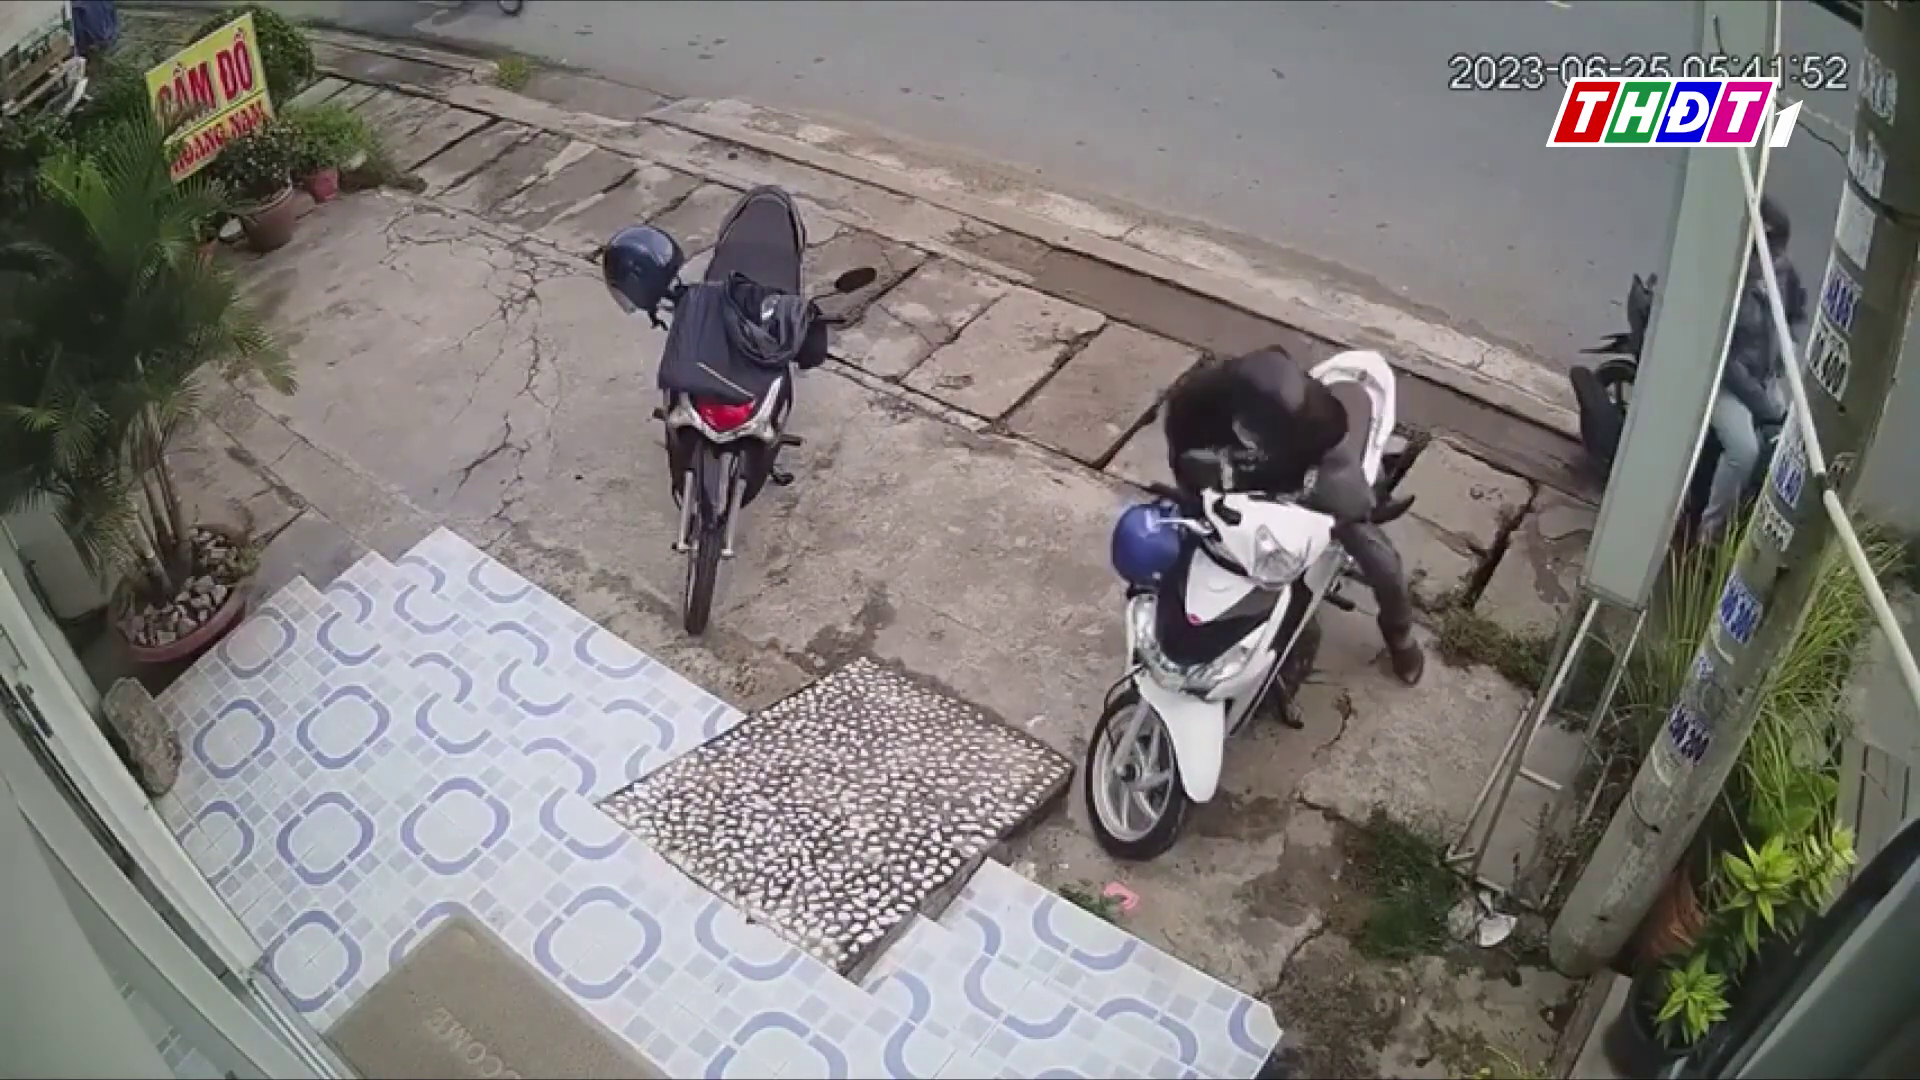Motorcycle: (1081, 344, 1429, 862), (601, 183, 872, 637)
